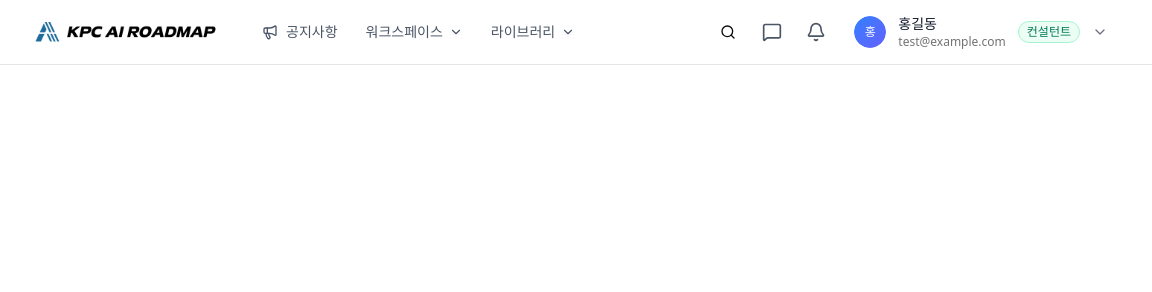
Navigation › 컨설턴트 역할 › user 드롭다운에서 프로필 관리 링크가 표시된다
This screenshot has width=1152, height=292.
Click the button "홍 홍길동 test@example.com 컨설턴트": (981,32) [842, 6, 1120, 58]
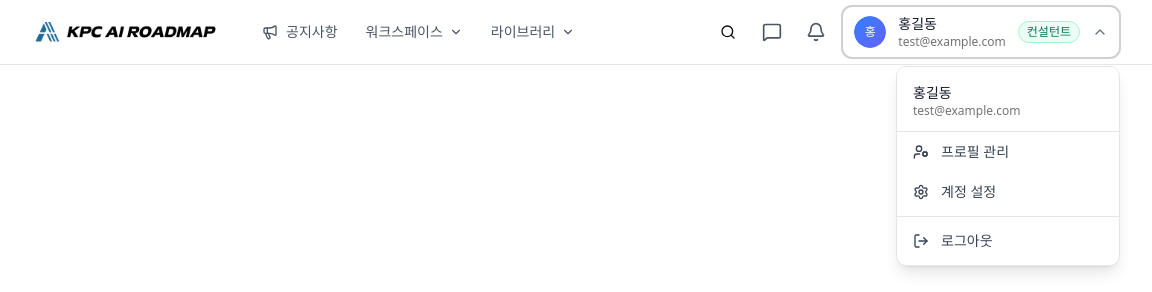
Expected: the link "프로필 관리" is shown, [913, 142, 1009, 161]
